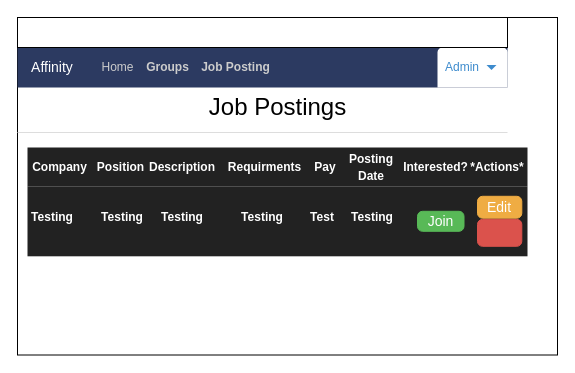
Some shapes in this 575 by 373 pixel diagram are drawn without their labels. The centre of each missing label's shape, as x and y in pixels:
"Delete" belongs at pixel 499 232.
"Locahost/URL" belongs at pixel 262 32.
